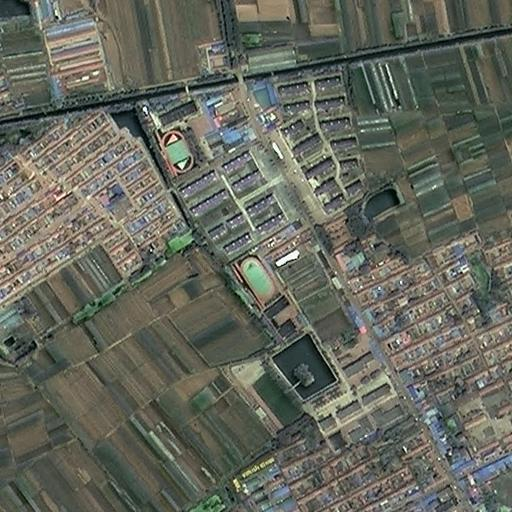school: (230, 243, 298, 339), (146, 96, 211, 181)
